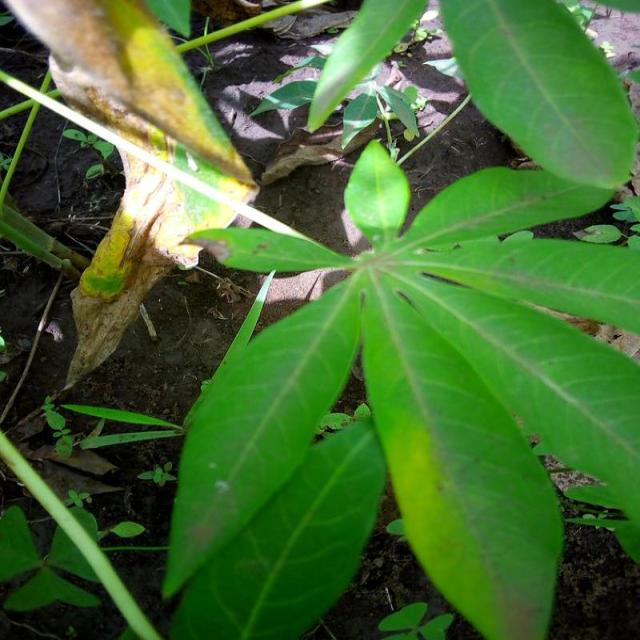cassava leaf: (162, 137, 638, 638), (3, 0, 260, 391), (161, 266, 364, 600), (438, 0, 638, 190)
